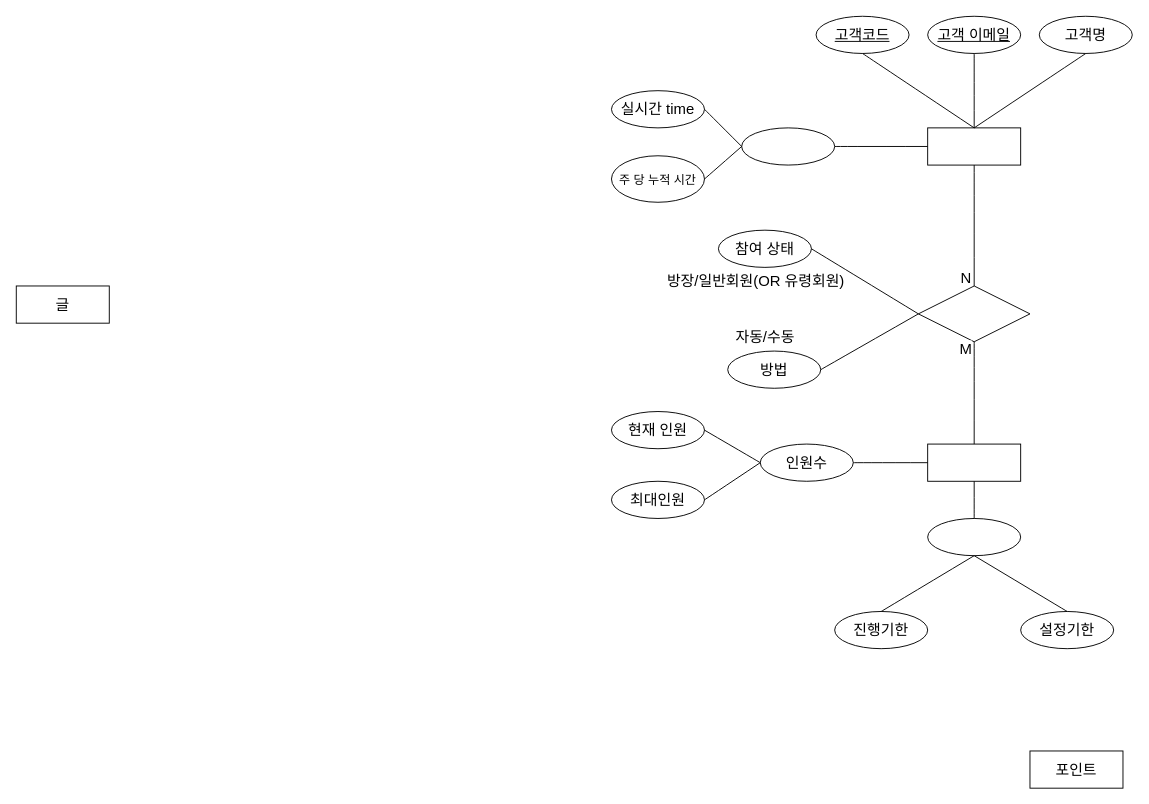
Image size: 1149x804. Some labels were removed from this diagram. The shapes that lost their labels are listed below. From the top down, each one's box as (x1, y1, x2, y2) in pixels, then its label:
(741, 127, 835, 165): 공부시간
(927, 127, 1021, 165): 고객
(917, 285, 1030, 342): 등록
(927, 443, 1021, 481): 스터디
(927, 518, 1021, 556): 기한
